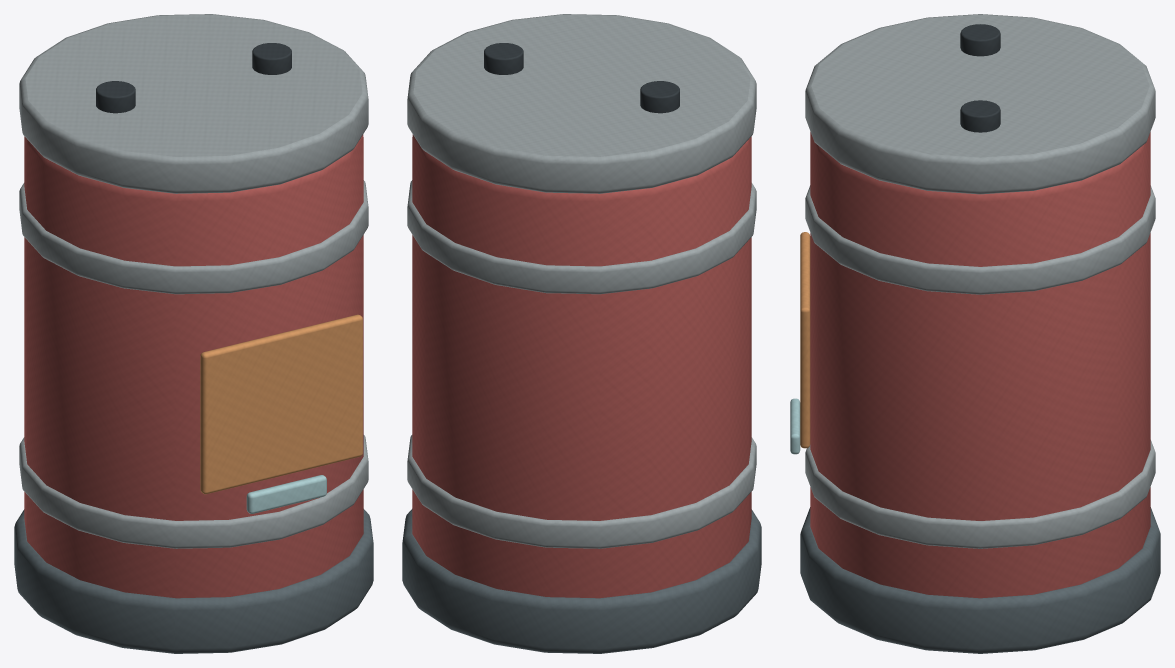
Rendered from HazardBarrel.fbx.
The picture shows the model from 3 angles, left to right: view 1: azimuth 30°, elevation 25°; view 2: azimuth 150°, elevation 25°; view 3: azimuth 270°, elevation 25°; orthographic projection.
Visible parts, largest first — view 1: HazardBarrel_Mesh; view 2: HazardBarrel_Mesh; view 3: HazardBarrel_Mesh.
Boxes of the visible parts, x1=… form: HazardBarrel_Mesh: x1=14, y1=14, x2=373, y2=653; HazardBarrel_Mesh: x1=402, y1=14, x2=761, y2=653; HazardBarrel_Mesh: x1=790, y1=14, x2=1160, y2=653.
Bounding box in the file's own units: 72 × 113 × 74.
Materials: 6 (6 with a texture image).
